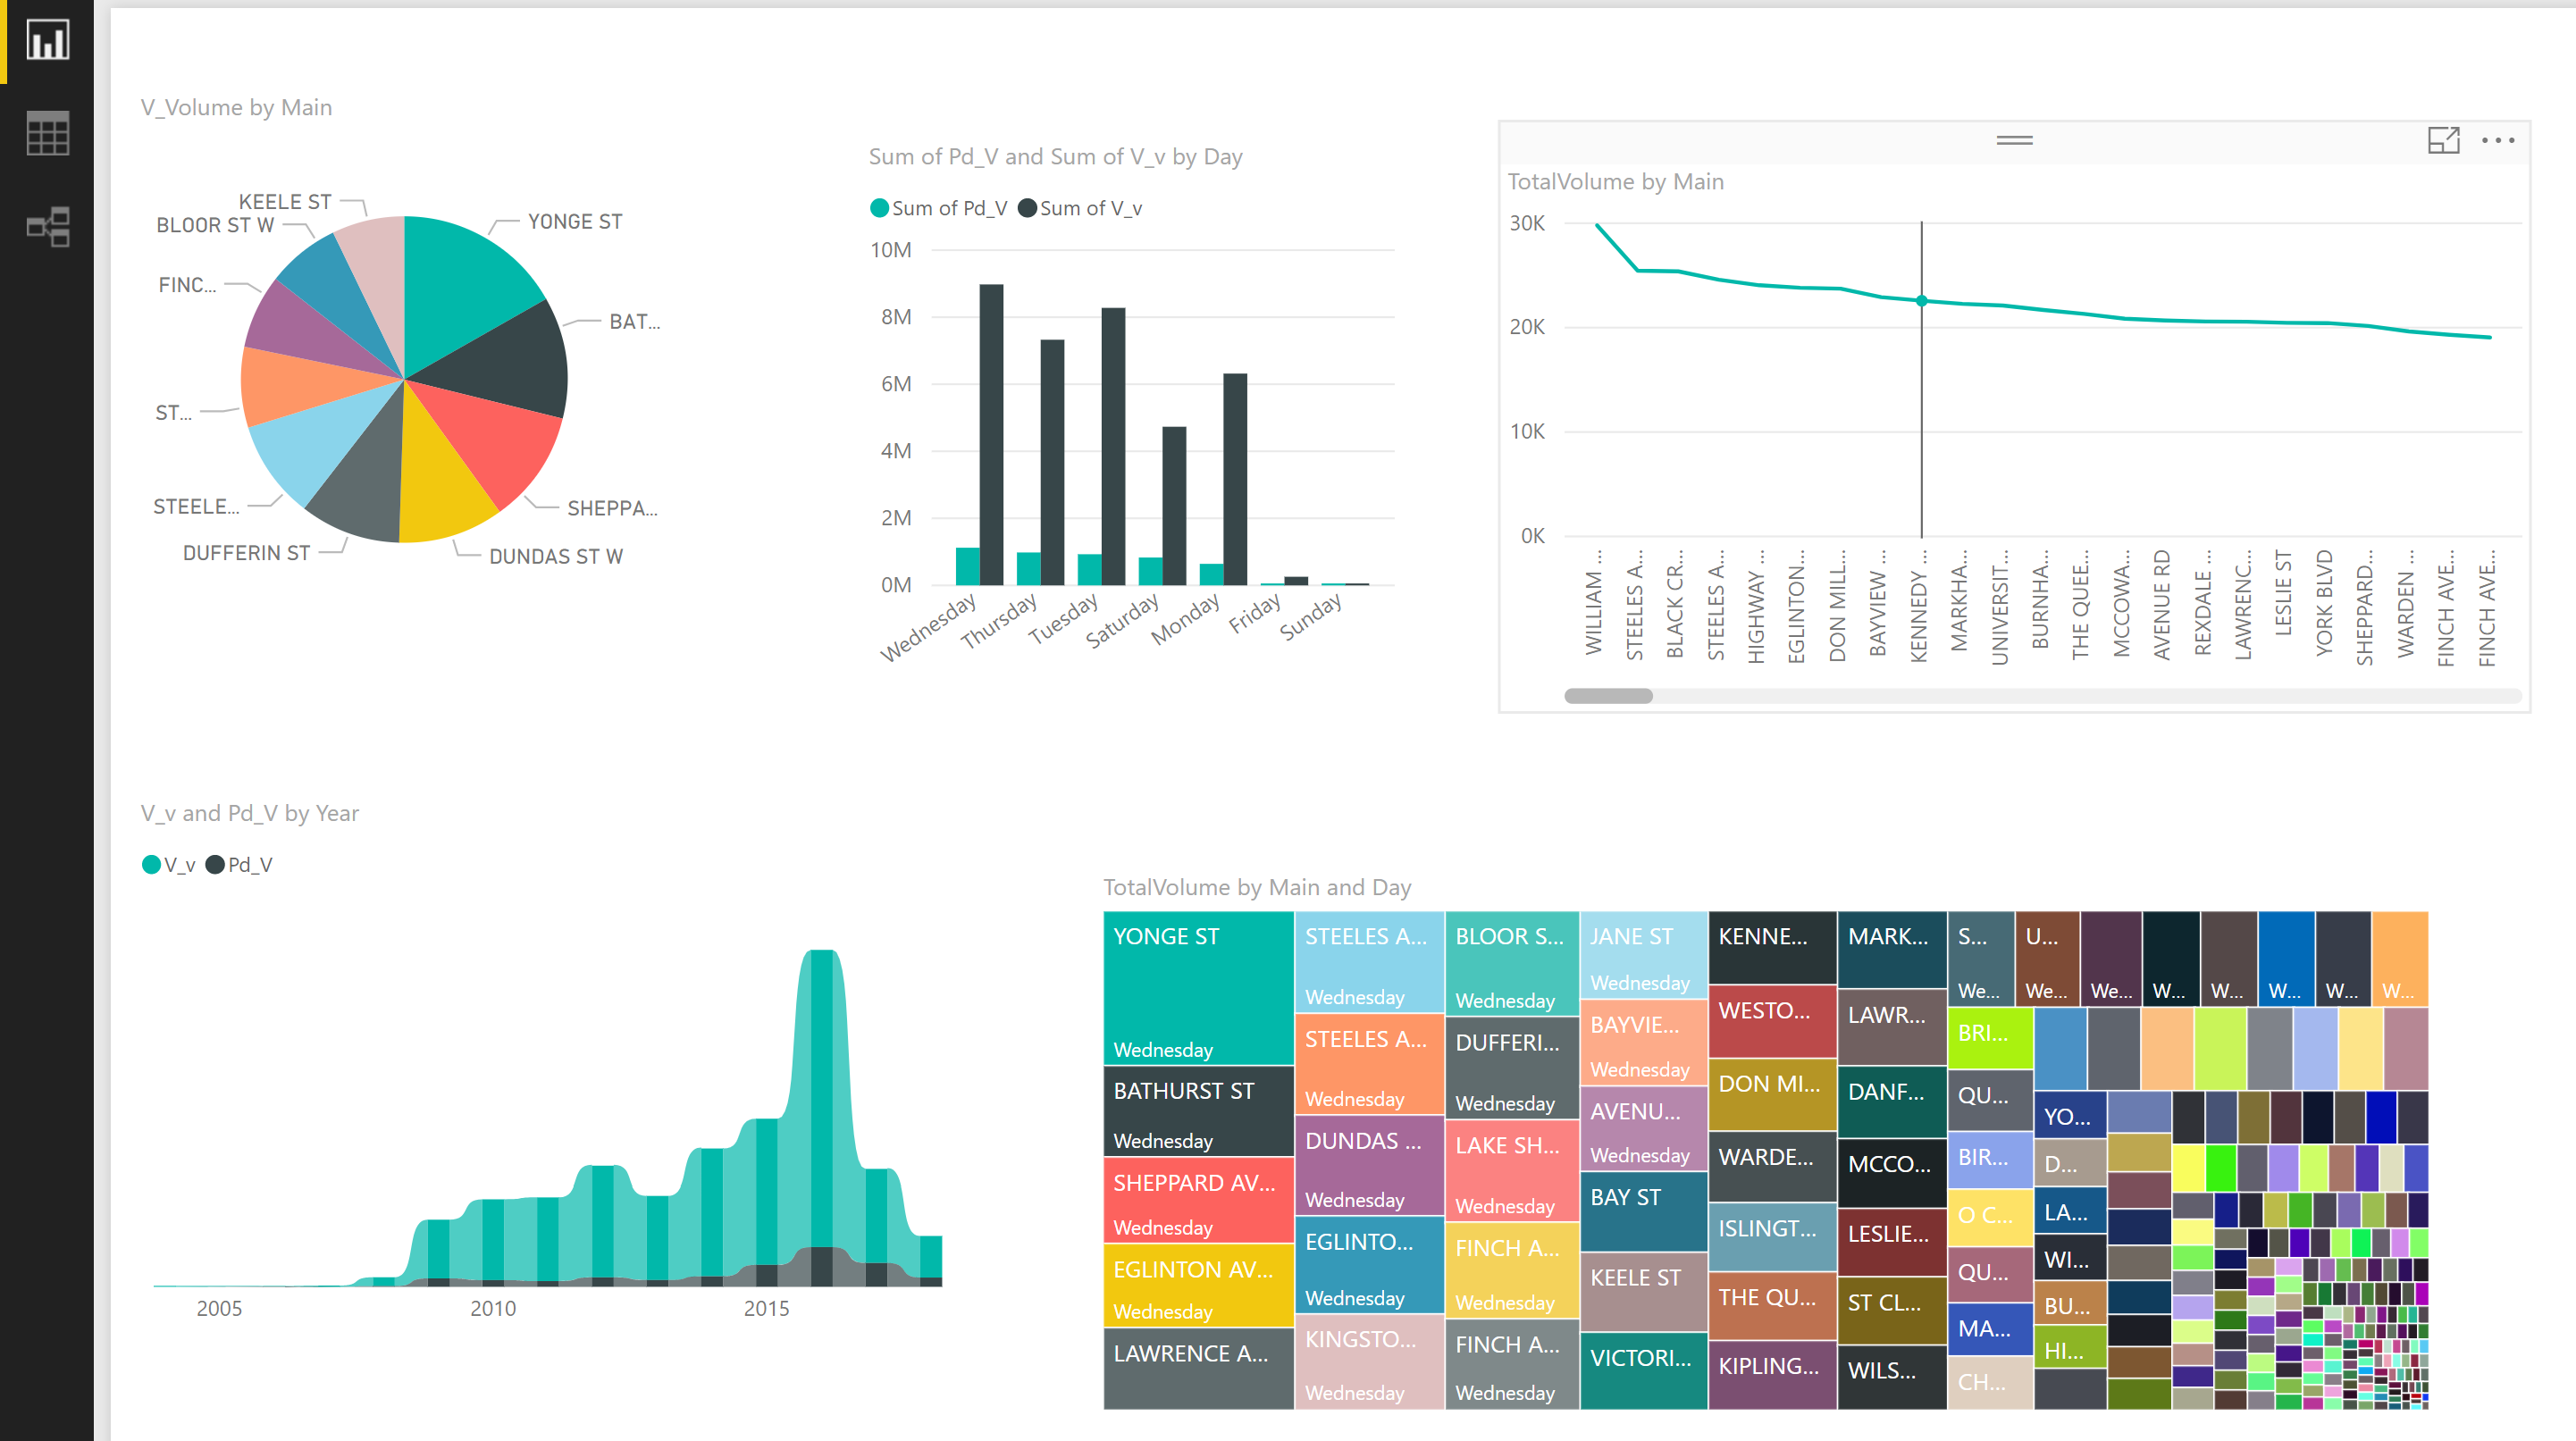

The page's visual inventory and layout, read from the dashboard file:
{"tool":"powerbi","page":{"name":"Page 1","canvas":[1280,720],"ordinal":0},"visuals":[{"type":"pieChart","fields":{"Category":["10-busiest.Main"],"Y":["Sum(10-busiest.V_Volume)"]},"box":[10,20,280,280],"z":1},{"type":"clusteredColumnChart","fields":{"Category":["Agg_MAXYear2.Day"],"Y":["Sum(Agg_MAXYear2.Pd_V)","Sum(Agg_MAXYear2.V_v)"]},"box":[383.4,44.2,279.6,280.8],"z":2},{"type":"ribbonChart","fields":{"Y":["Sum(Agg_Year.V_v)","Sum(Agg_Year.Pd_V)"],"Category":["Agg_Year.Year"]},"box":[10.3,381.6,427.7,280.8],"z":4},{"type":"lineChart","fields":{"Category":["first_query.Main"],"Y":["Sum(first_query.TotalVolume)"]},"box":[712.1,57.1,530.6,281.9],"z":5},{"type":"treemap","fields":{"Group":["Query-5.Main"],"Details":["Query-5.Day"],"Values":["Sum(Query-5.TotalVolume)"]},"box":[504.2,419,689.8,281.9],"z":5}]}

Visuals, with their boxes on the page's 1280x720 design canvas (x1, y1, x2, y2). These are canvas units, not pixel positions in the 2576x1441 screenshot, which may show the page scaled, cropped or inside an application window:
pieChart - 10-busiest.Main x Sum(10-busiest.V_Volume): {"x1": 10, "y1": 20, "x2": 290, "y2": 300}
clusteredColumnChart - Agg_MAXYear2.Day x Sum(Agg_MAXYear2.Pd_V): {"x1": 383, "y1": 44, "x2": 663, "y2": 325}
ribbonChart - Sum(Agg_Year.V_v) x Sum(Agg_Year.Pd_V): {"x1": 10, "y1": 382, "x2": 438, "y2": 662}
lineChart - first_query.Main x Sum(first_query.TotalVolume): {"x1": 712, "y1": 57, "x2": 1243, "y2": 339}
treemap - Query-5.Main x Query-5.Day: {"x1": 504, "y1": 419, "x2": 1194, "y2": 701}
